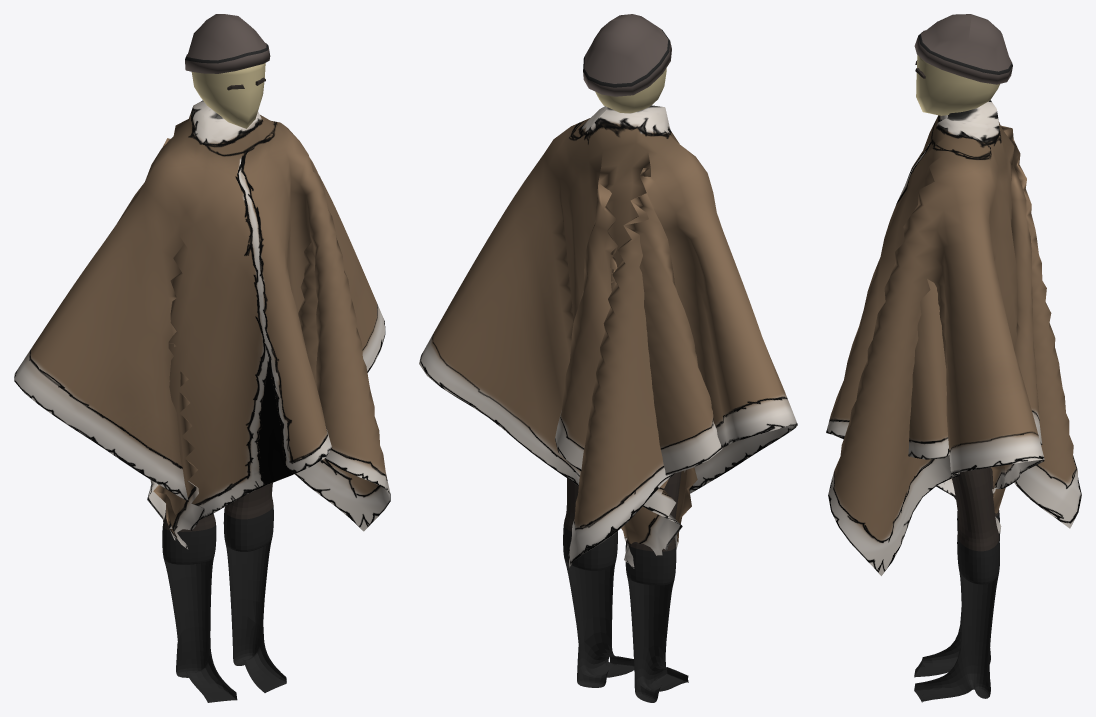
The picture shows the model from 3 angles, left to right: view 1: azimuth 30°, elevation 25°; view 2: azimuth 150°, elevation 25°; view 3: azimuth 270°, elevation 25°; orthographic projection.
Visible parts, largest first — view 1: Plane.003, Cube.008, Cube.011, Cube.009; view 2: Plane.003, Cube.008, Cube.011, Cube.009; view 3: Plane.003, Cube.008, Cube.011, Cube.009.
Boxes of the visible parts, x1,y1,x2,y2 form: Plane.003: (14,100,390,549); Cube.008: (162,483,286,702); Cube.011: (185,14,270,73); Cube.009: (191,63,265,128); Plane.003: (419,105,797,568); Cube.008: (563,471,688,702); Cube.011: (583,14,671,96); Cube.009: (595,68,666,113); Plane.003: (826,100,1081,575); Cube.008: (914,467,999,702); Cube.011: (914,14,1012,84); Cube.009: (916,55,999,115).
Bounding box in the file's own units: 2.55 × 4.42 × 1.53.
6 materials, 1 textured.
